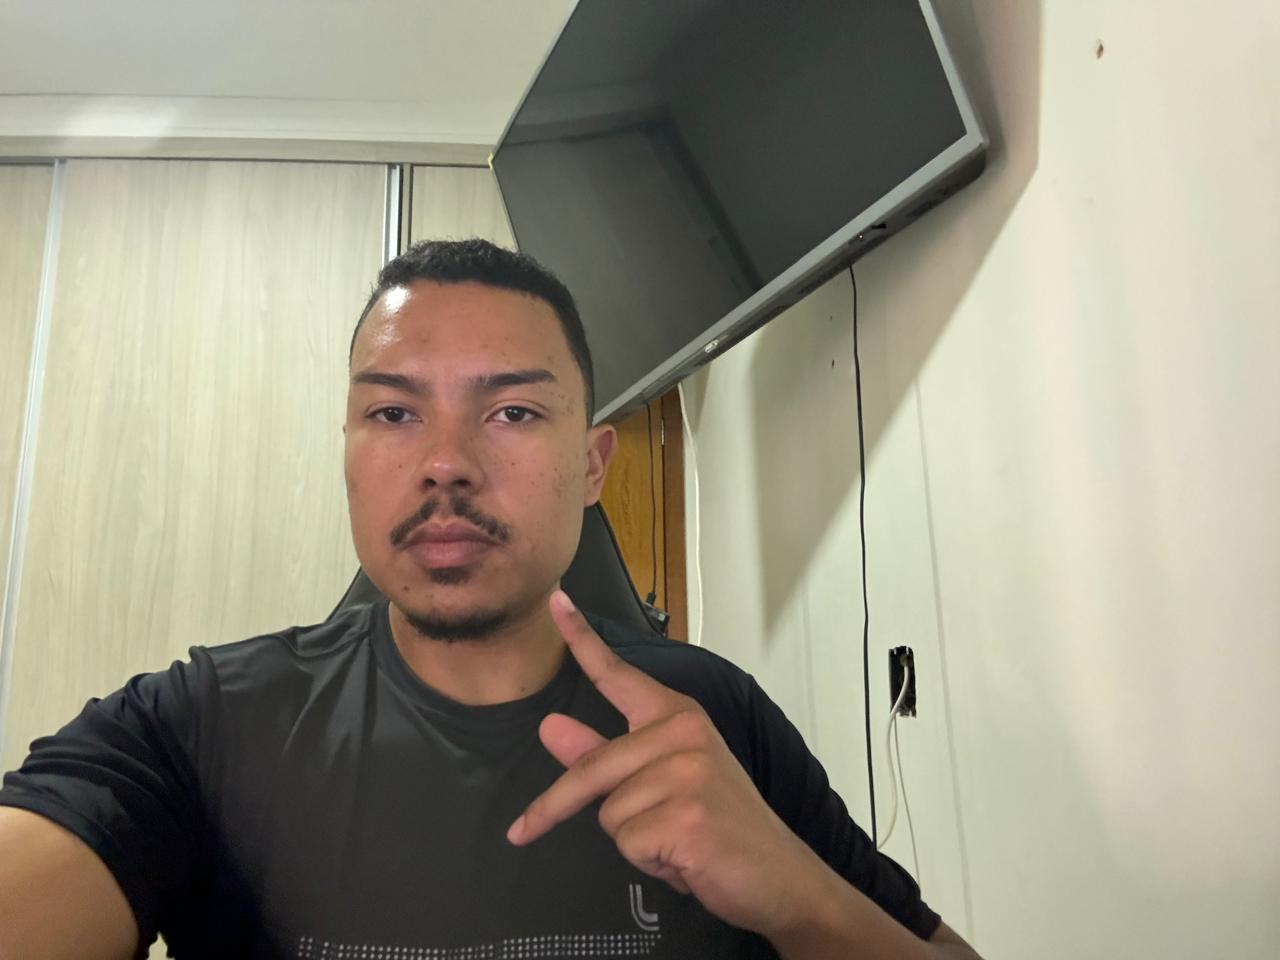p: (491, 575, 825, 942)
